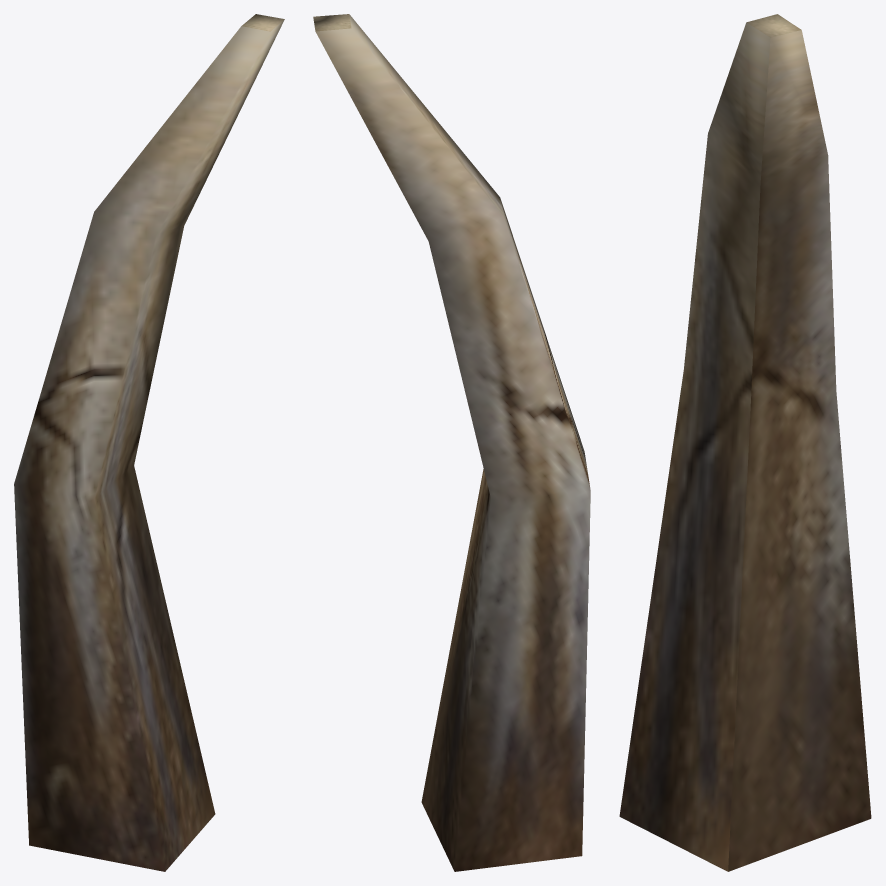
File: D_baigu010.fbx
3 views of the same model, side by side, from view 1: azimuth 30°, elevation 25°; view 2: azimuth 150°, elevation 25°; view 3: azimuth 270°, elevation 25° (orthographic). The views are drawn at different scales.
Parts seen in each view (by area): view 1: D_baigu010; view 2: D_baigu010; view 3: D_baigu010.
Part boxes in pixels (left/top/right/bottom): D_baigu010: left=14, top=14, right=284, bottom=871; D_baigu010: left=313, top=14, right=590, bottom=871; D_baigu010: left=619, top=14, right=871, bottom=871.
Bounding box in the file's own units: 56.85 × 153 × 39.36.
